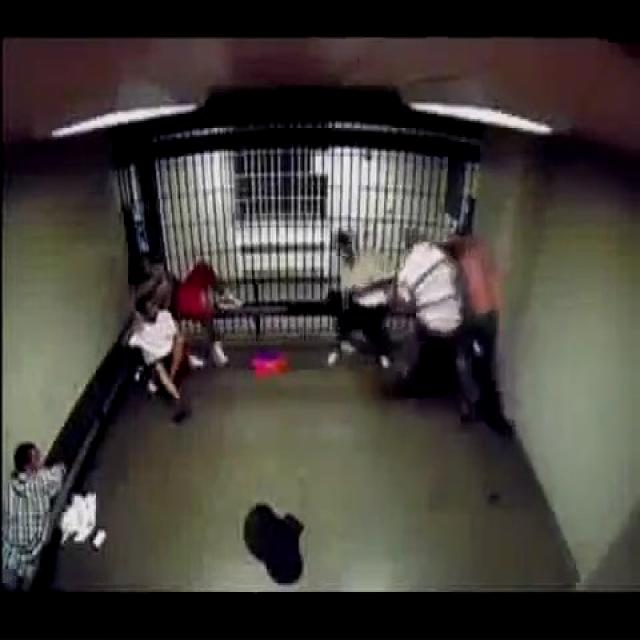fight: (398, 217, 509, 426)
